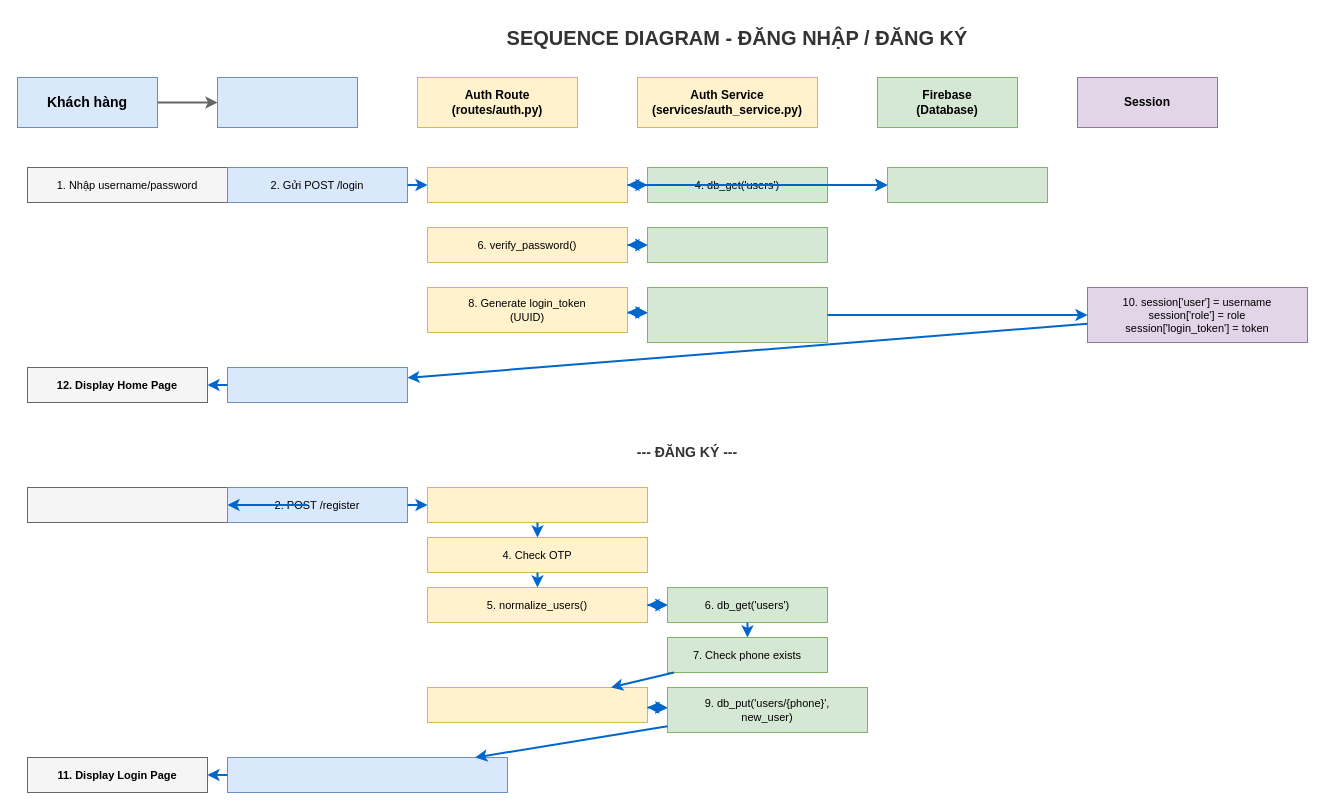
Some shapes in this 1325 by 810 pixel diagram are drawn without their labels. Here are the shapes that lost their labels. From the top down, the centre of each, then its label:
the point at 287,102: Browser
the point at 527,184: 3. find_user(username)
the point at 967,184: 5. Return user data
the point at 737,244: 7. Password Match!
the point at 737,314: 9. db_patch ('users/{username}', {login_token})
the point at 317,384: 11. Redirect to /home
the point at 167,504: 1. Nhập phone, email, name, password
the point at 537,504: 3. validate_register_data()
the point at 537,704: 8. hash_password()
the point at 367,774: 10. Flash success & Redirect /login
